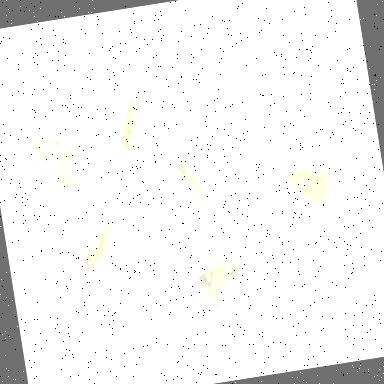abw: (280, 152, 354, 222), (25, 122, 88, 201), (187, 250, 250, 318), (170, 148, 224, 218), (109, 88, 154, 169), (70, 216, 127, 279)
